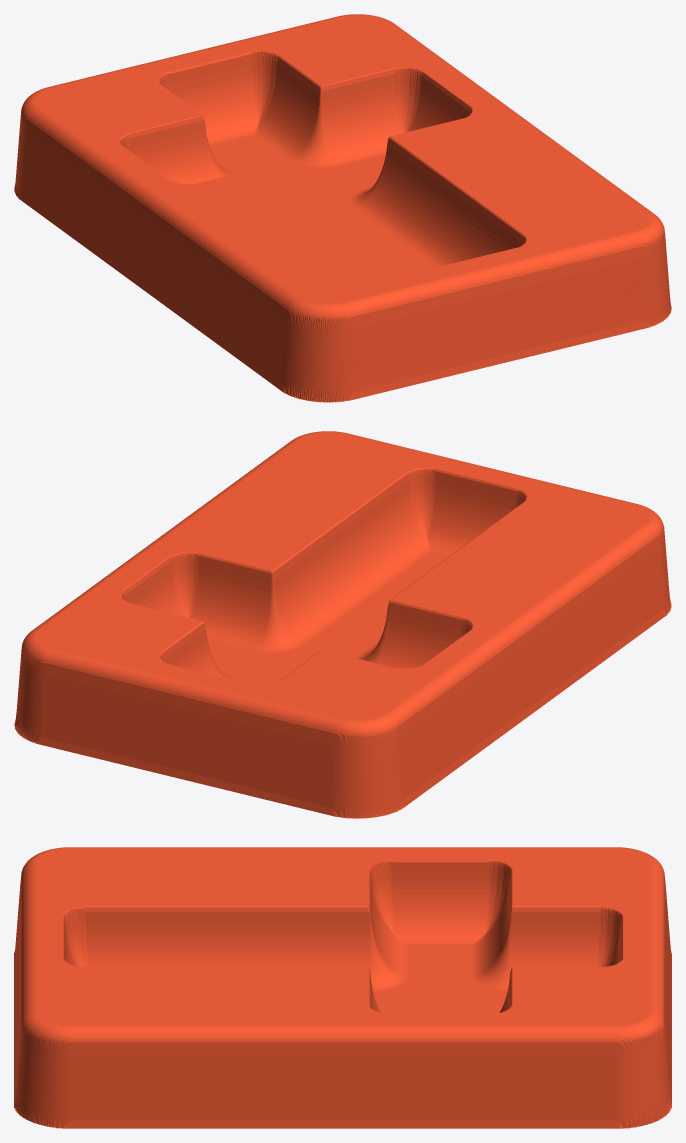
File: mold.glb
3 renders of one model, top to bottom at view 1: azimuth 30°, elevation 25°; view 2: azimuth 150°, elevation 25°; view 3: azimuth 270°, elevation 25°, orthographic. The views are drawn at different scales.
Parts seen in each view (by area): view 1: geometry_0; view 2: geometry_0; view 3: geometry_0.
Boxes of the visible parts, left/top/right/bottom form: geometry_0: left=14, top=14, right=671, bottom=402; geometry_0: left=14, top=431, right=671, bottom=818; geometry_0: left=14, top=847, right=671, bottom=1128.
Bounding box in the file's own units: 0.074 × 0.0165 × 0.105.
